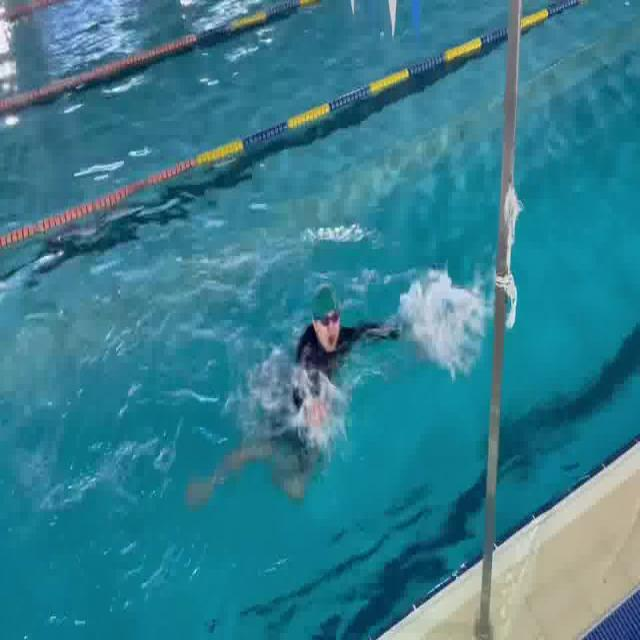Drowning: (168, 236, 470, 490)
